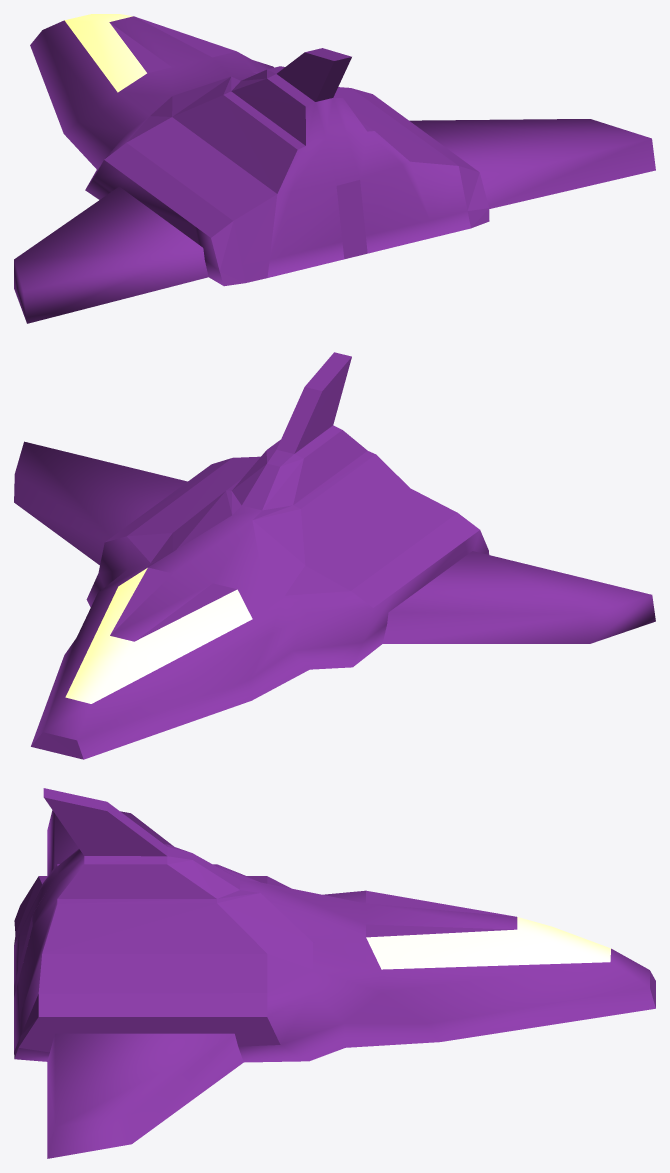
Rendered from studio_spaceship.glb.
The picture shows the model from 3 angles, top to bottom: view 1: azimuth 30°, elevation 25°; view 2: azimuth 150°, elevation 25°; view 3: azimuth 270°, elevation 25°; orthographic projection. The views are drawn at different scales.
Visible parts, largest first — view 1: polySurface; view 2: polySurface; view 3: polySurface.
Boxes of the visible parts, x1,y1,x2,y2 form: polySurface: (14, 14, 655, 323); polySurface: (14, 352, 655, 759); polySurface: (14, 788, 655, 1158).
Bounding box in the file's own units: 10.57 × 3.04 × 8.74.
